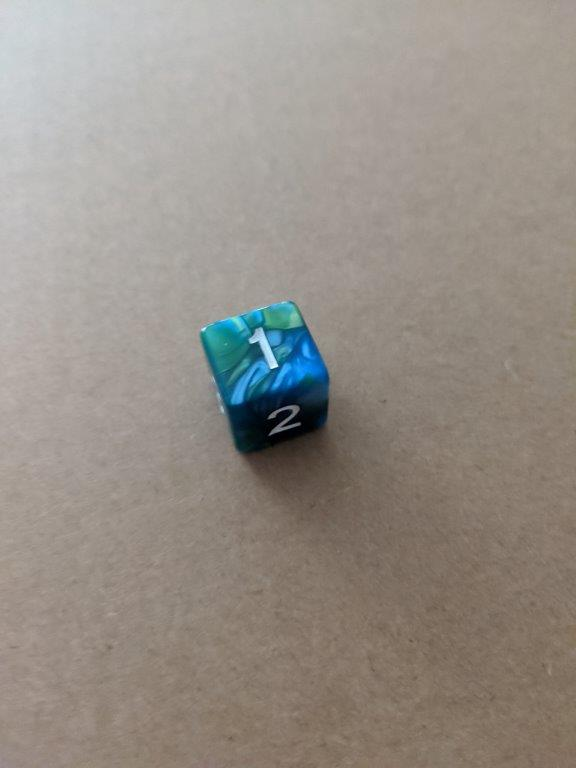d6-1: (196, 300, 328, 457)
